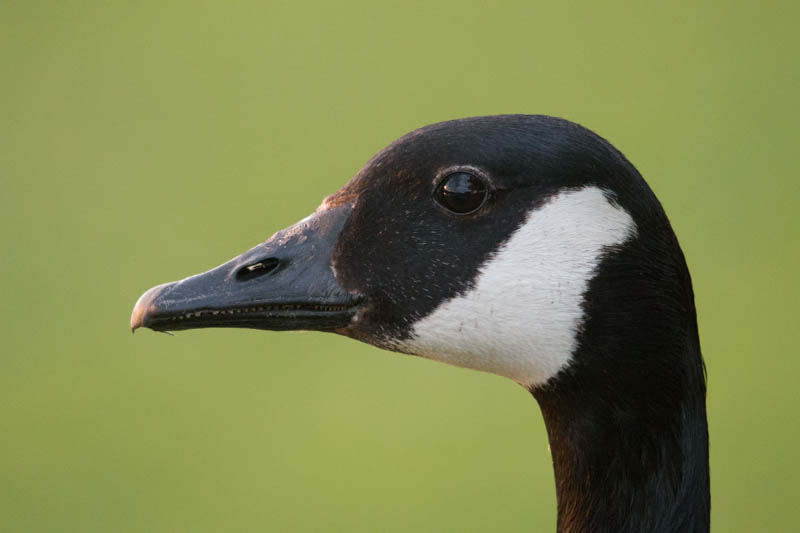goose-head: (132, 112, 700, 391)
